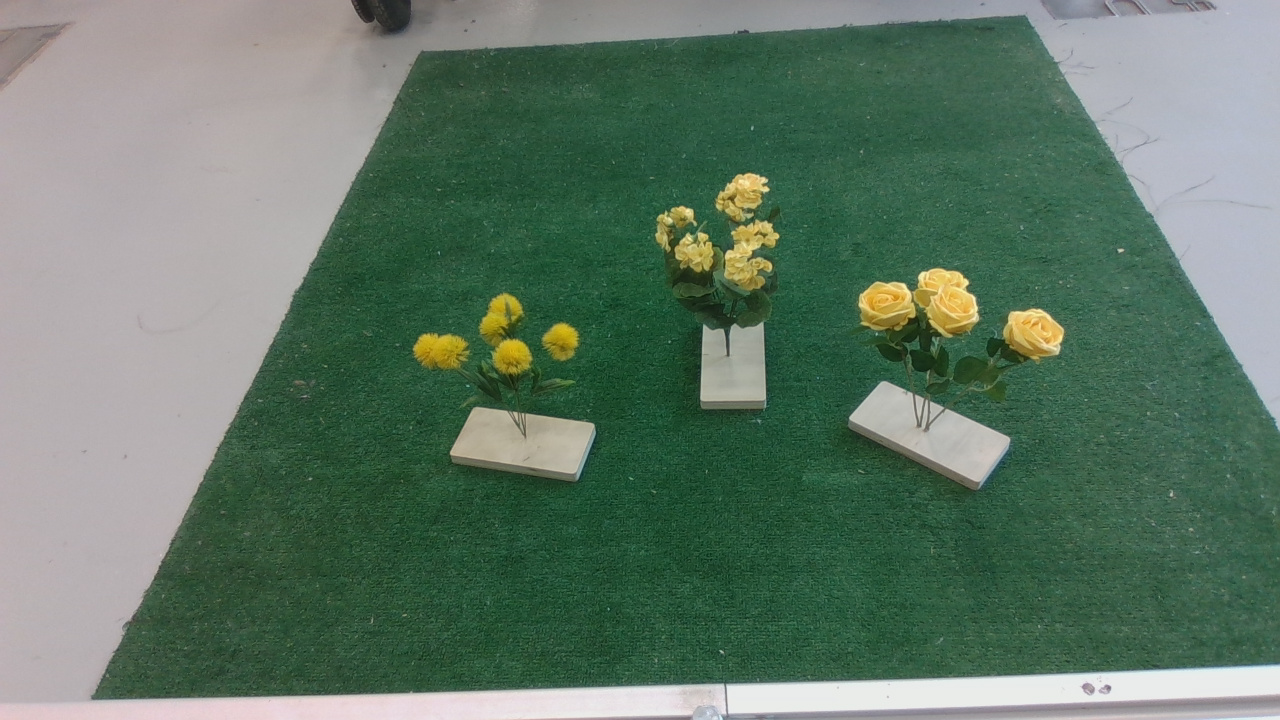dandelion: (409, 296, 595, 419)
geranium: (658, 165, 796, 338)
rose: (852, 264, 1077, 404)
